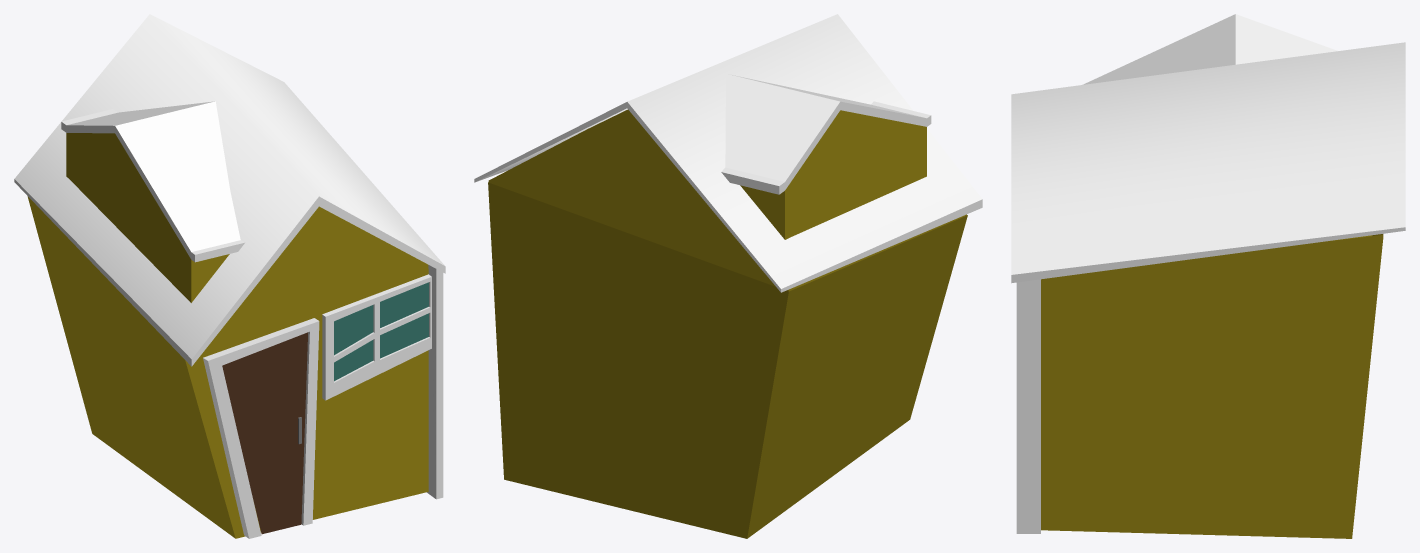
Rendered from house03.fbx.
3 views of the same model, side by side, from view 1: azimuth 30°, elevation 25°; view 2: azimuth 150°, elevation 25°; view 3: azimuth 270°, elevation 25° (orthographic). The views are drawn at different scales.
Visible parts, largest first — view 1: transform16 (×4); view 2: transform16 (×2); view 3: transform16 (×2).
Boxes of the visible parts, x1=… form: transform16 (×4): x1=14, y1=14, x2=445, y2=538; transform16 (×2): x1=474, y1=14, x2=982, y2=538; transform16 (×2): x1=1011, y1=14, x2=1405, y2=538.
Size of the model in its own units: 23.15 by 31.52 by 26.35.
